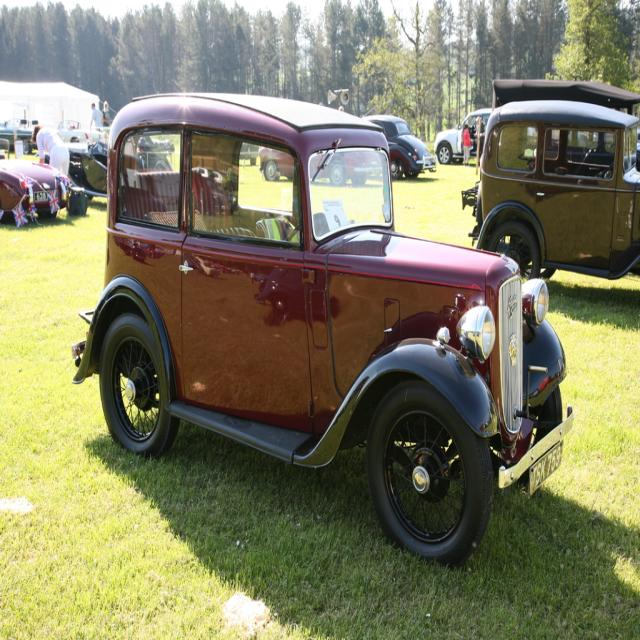car: (70, 87, 574, 572)
